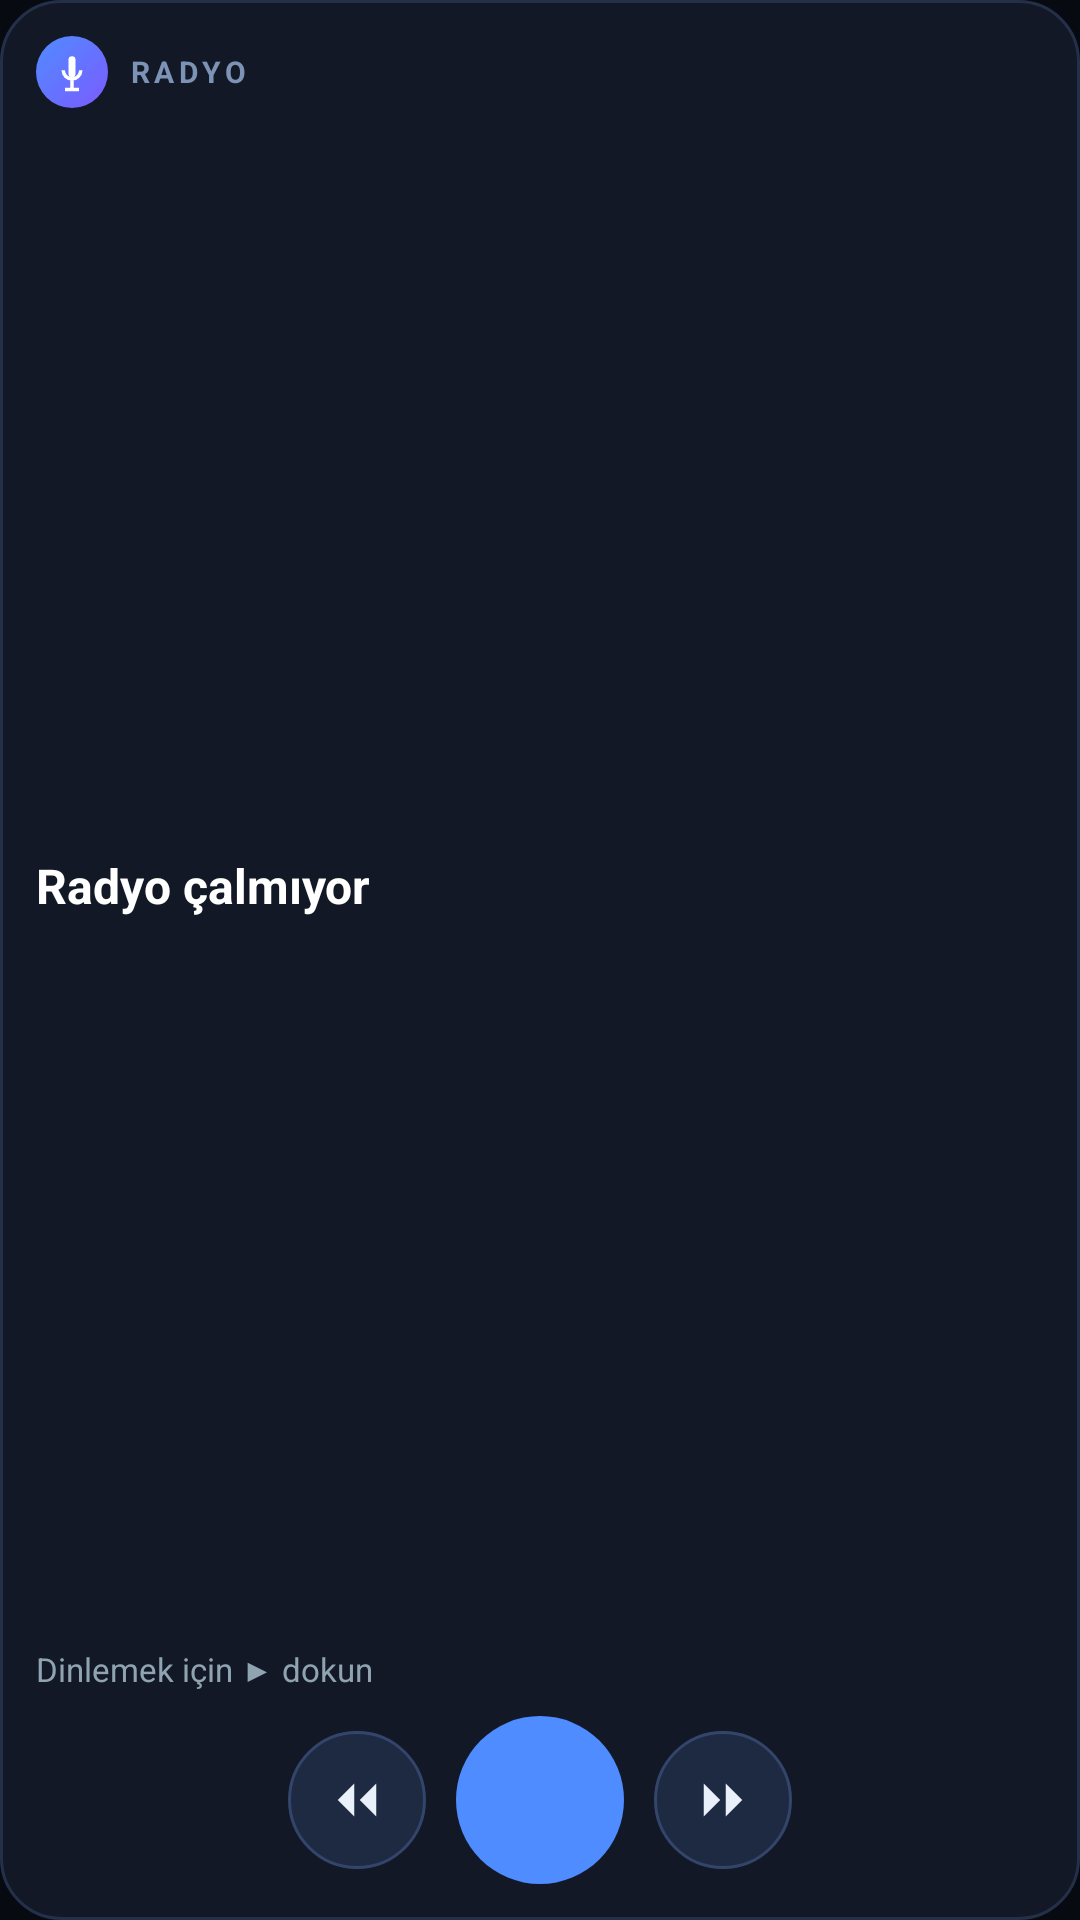

Named icons in this screenshot (1080px x 1920px) and their centers, [x,y]:
brand mic: [72,72]
Sonraki radyo: [723,1800]
Önceki radyo: [357,1800]
